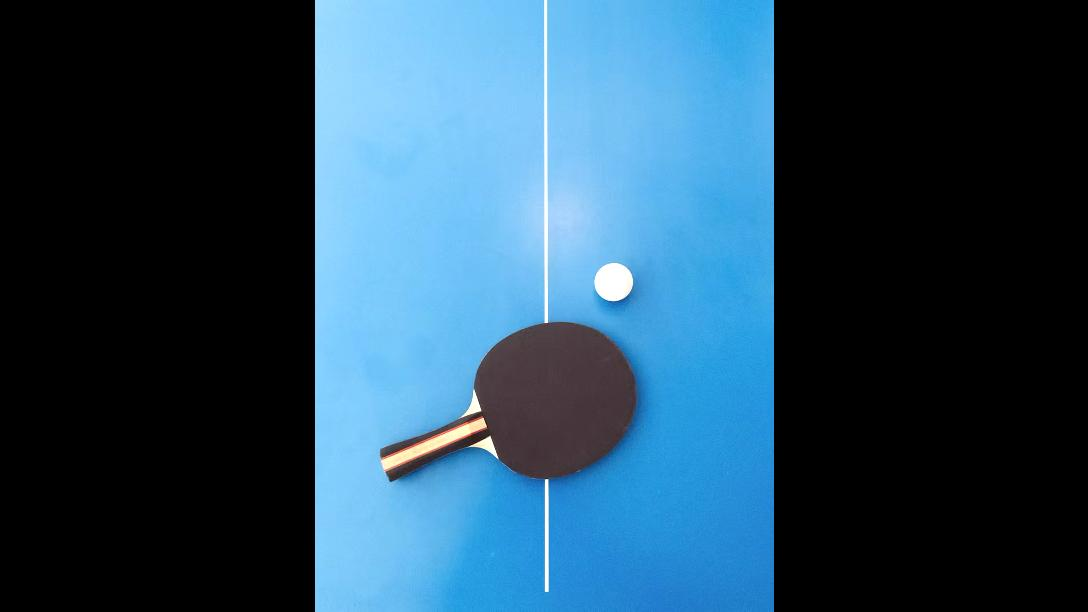Table-Tennis-Ball: (595, 264, 632, 300)
